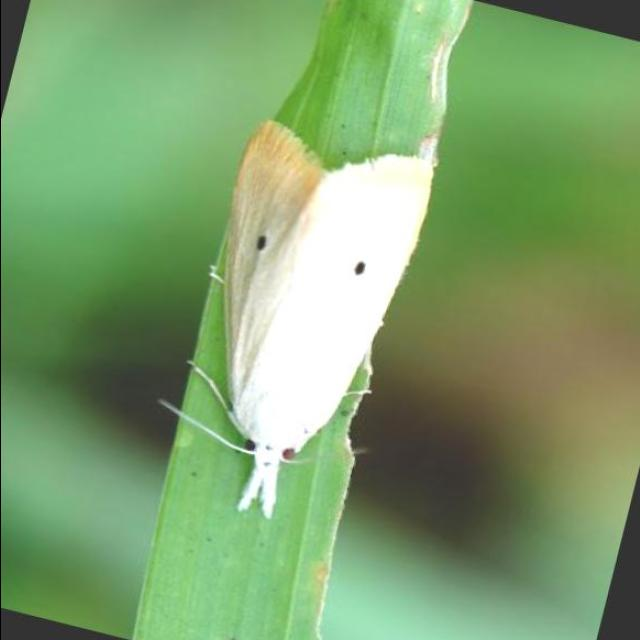stem borer: (150, 122, 435, 517)
